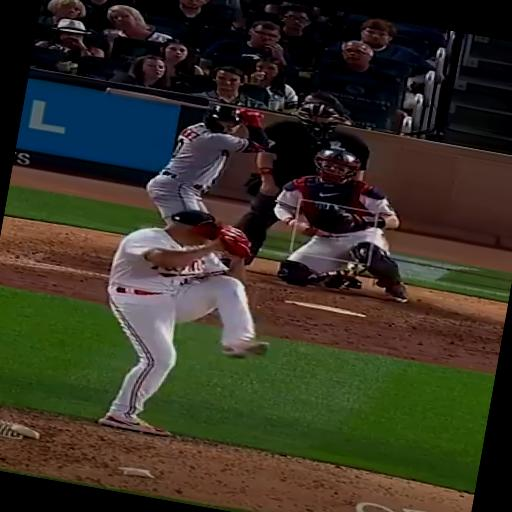bat: (111, 87, 216, 106)
